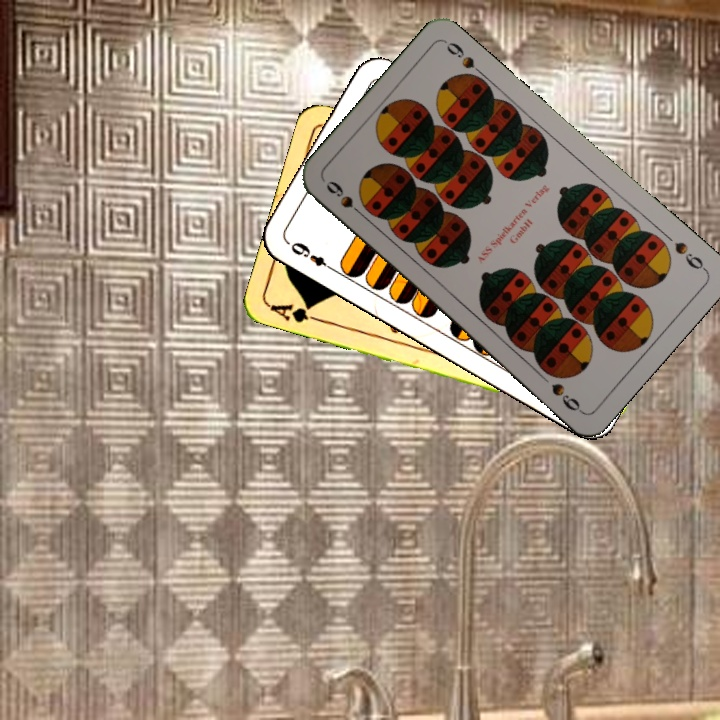E9: (286, 238, 338, 274)
GA: (266, 299, 325, 326)
S9: (322, 176, 369, 222), (670, 237, 709, 274)
